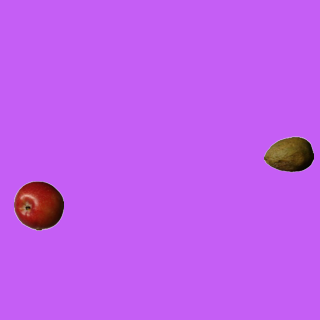Apple Braeburn: (13, 180, 63, 230)
Papaya: (263, 129, 313, 179)
